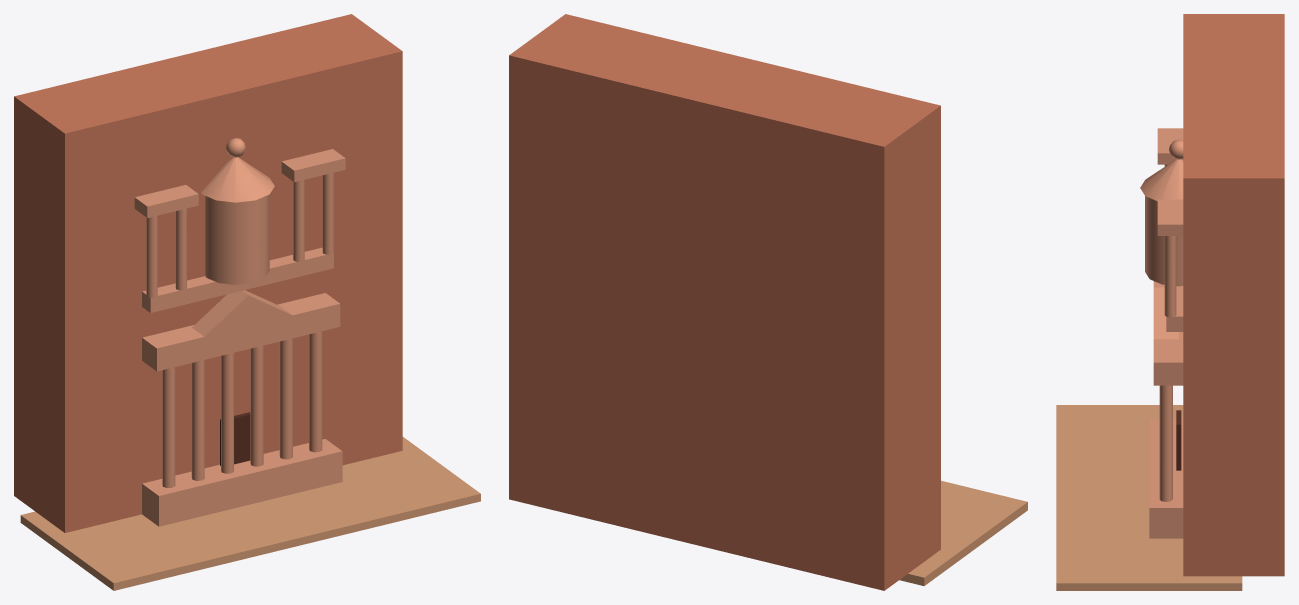
The picture shows the model from 3 angles, left to right: view 1: azimuth 30°, elevation 25°; view 2: azimuth 150°, elevation 25°; view 3: azimuth 270°, elevation 25°; orthographic projection. The views are drawn at different scales.
Bounding box in the file's own units: 50 × 53 × 27.
